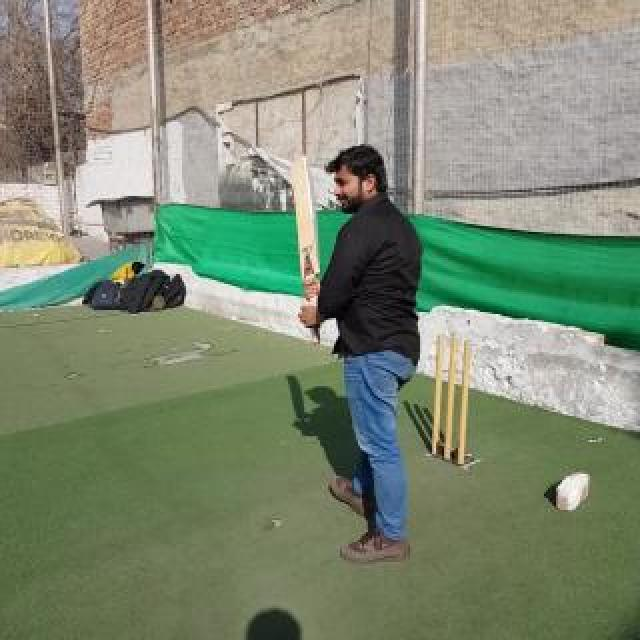bat: (291, 155, 321, 345)
